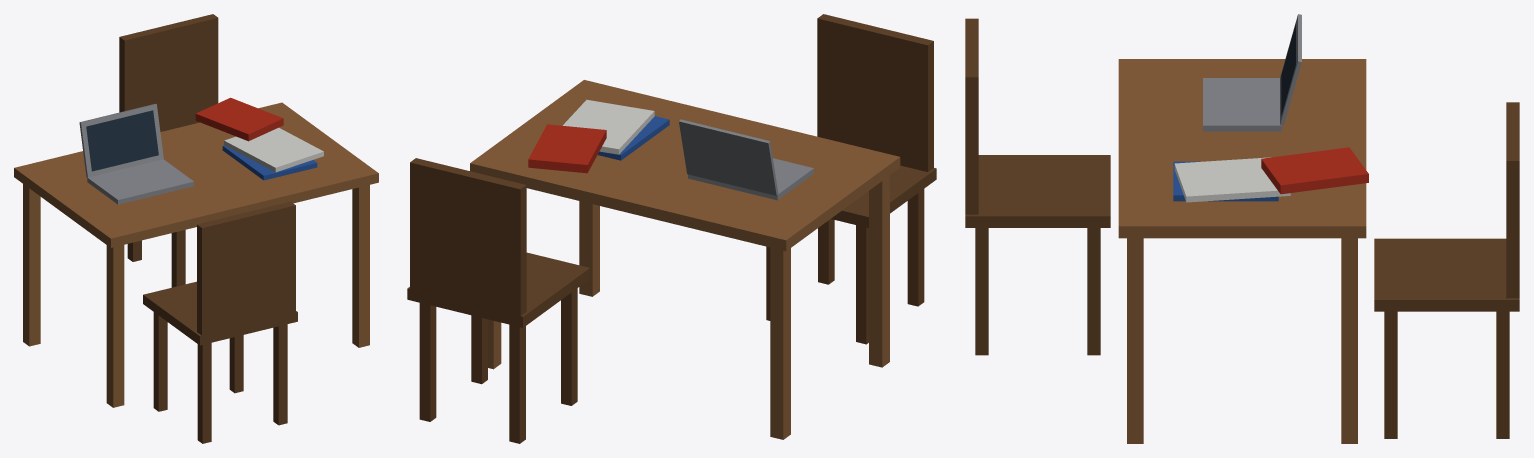
Rendered from prop_dining-table.glb.
3 renders of one model, left to right at view 1: azimuth 30°, elevation 25°; view 2: azimuth 150°, elevation 25°; view 3: azimuth 270°, elevation 25°, orthographic. The views are drawn at different scales.
Visible parts, largest first — view 1: body; view 2: body; view 3: body.
Boxes of the visible parts, <box> form: body: <box>14,14,378,443</box>; body: <box>407,14,936,443</box>; body: <box>965,14,1519,443</box>.
Bounding box in the file's own units: 1.2 × 0.9747 × 1.68.
